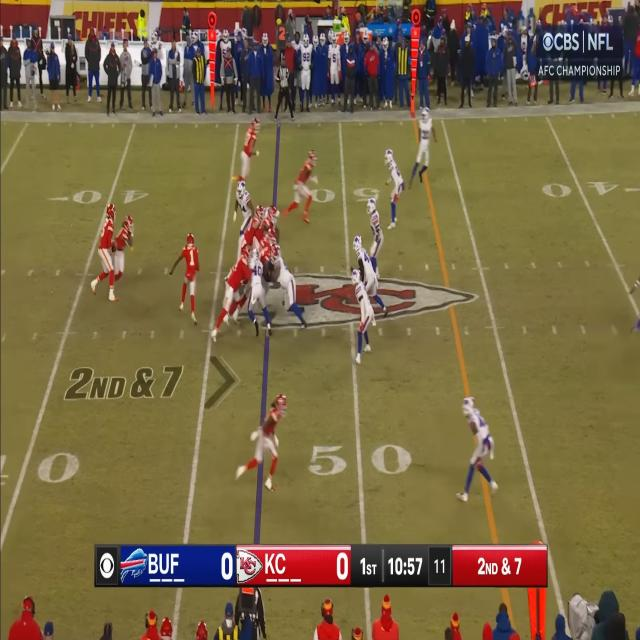Ball: (112, 241, 117, 252)
